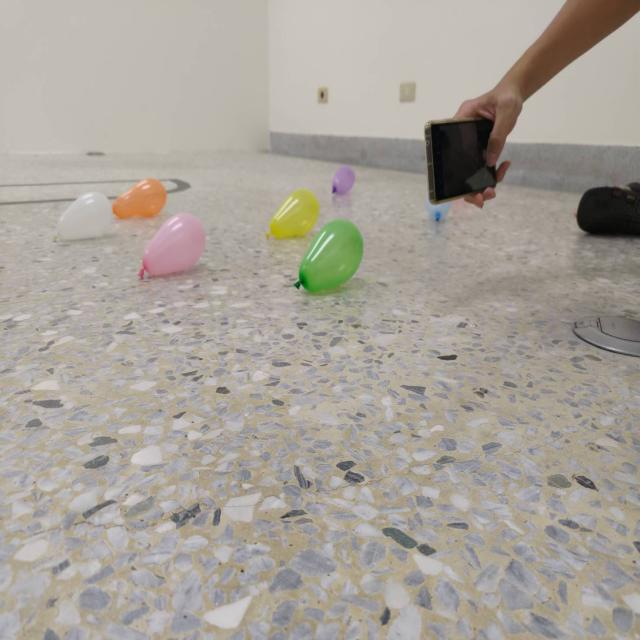other: (294, 217, 364, 297), (138, 213, 205, 280), (53, 190, 111, 243), (265, 186, 320, 238), (112, 177, 167, 219), (330, 165, 357, 193), (425, 202, 450, 222)
